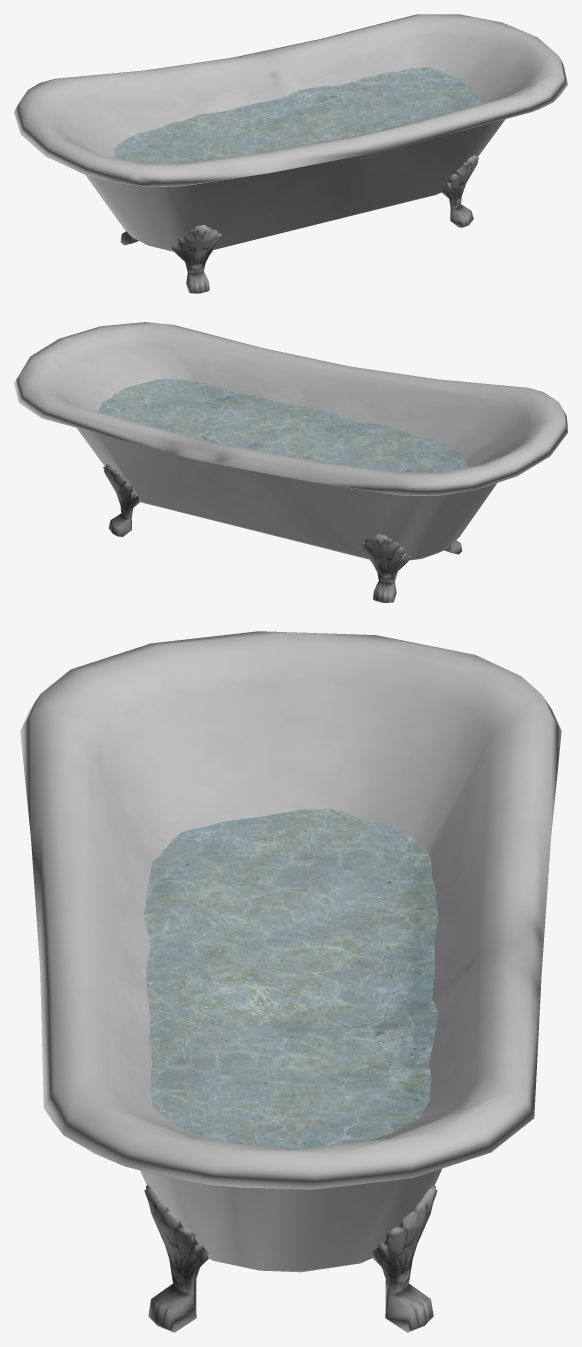
The model's file is mdl_wollo_bathtub.gltf.
3 renders of one model, top to bottom at view 1: azimuth 30°, elevation 25°; view 2: azimuth 150°, elevation 25°; view 3: azimuth 270°, elevation 25°, orthographic. The views are drawn at different scales.
Parts seen in each view (by area): view 1: bathtub, water; view 2: bathtub, water; view 3: bathtub, water.
Boxes of the visible parts, x1=… form: bathtub: x1=14, y1=14, x2=567, y2=293; water: x1=114, y1=67, x2=481, y2=163; bathtub: x1=14, y1=322, x2=567, y2=602; water: x1=98, y1=378, x2=467, y2=475; bathtub: x1=20, y1=631, x2=561, y2=1332; water: x1=144, y1=808, x2=438, y2=1149.
Bounding box in the file's own units: 2.01 × 0.5988 × 0.9231.
2 materials, 2 textured.
